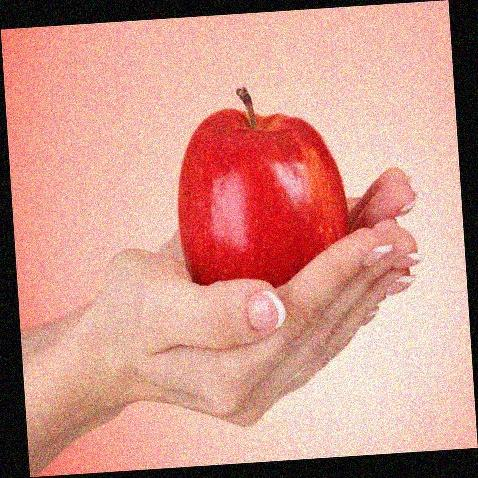red apple: (168, 97, 351, 291)
